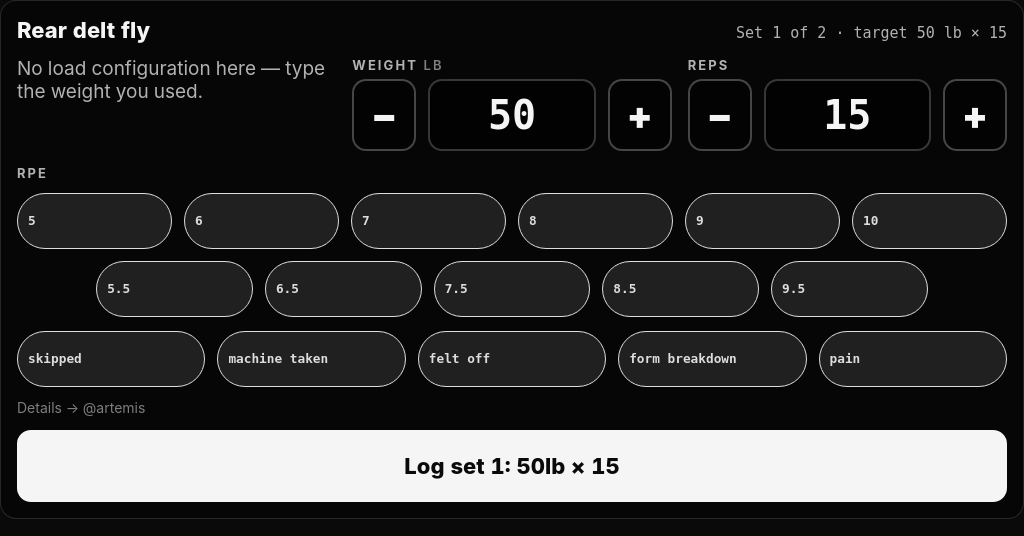
Test case: pain chip › is disabled once the set is logged
The width and height of the screenshot is (1024, 536).
Click the button with aria-label "Log Rear delt fly set 1" at coordinates (512, 466), box [17,430,1007,502]
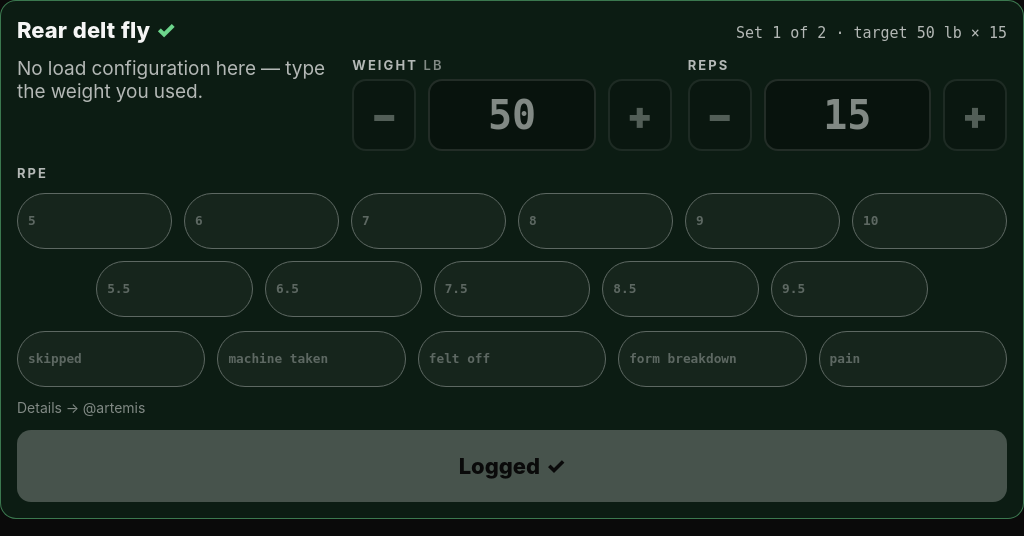
Check: the button with test id "pain-chip" is disabled, box [819,331,1007,387]
